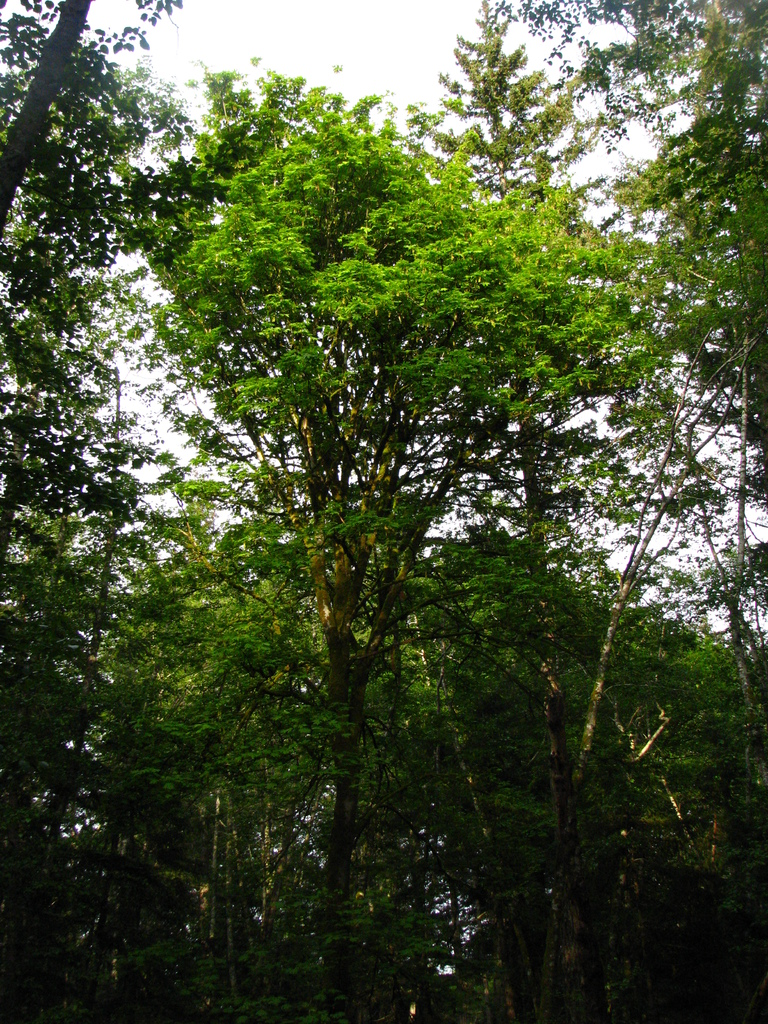Tree: (7, 25, 768, 968)
